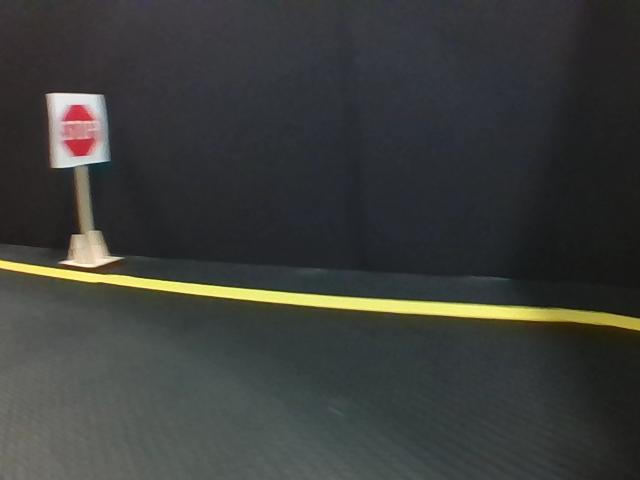stop: (48, 92, 108, 163)
